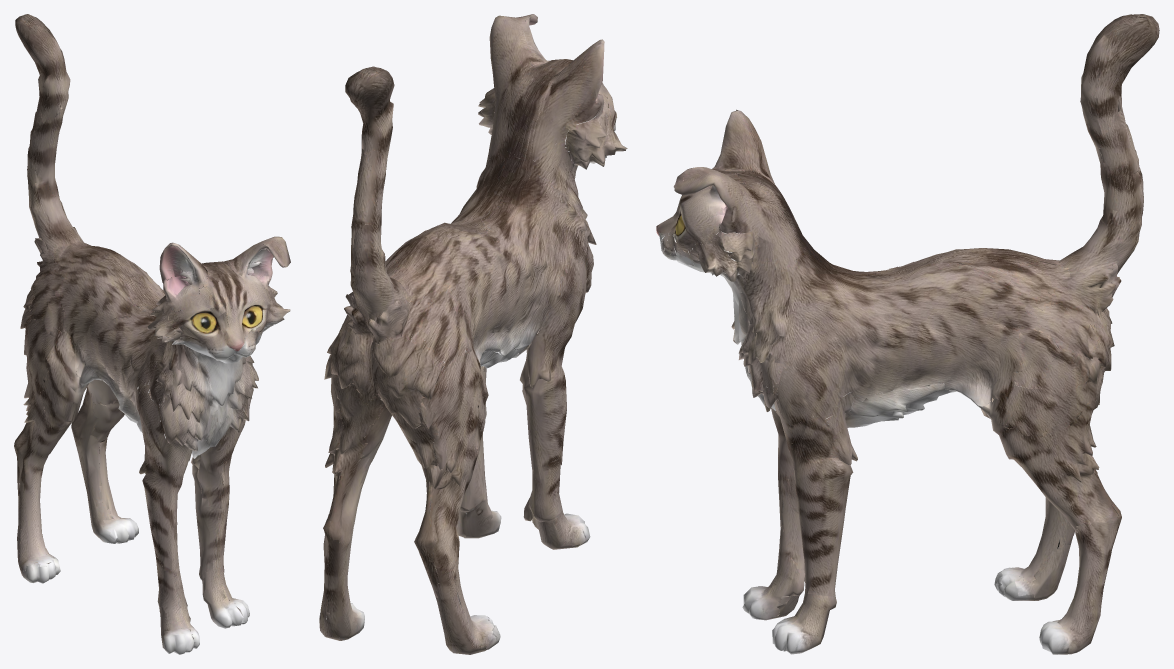
The model's file is cat.glb.
3 views of the same model, side by side, from view 1: azimuth 30°, elevation 25°; view 2: azimuth 150°, elevation 25°; view 3: azimuth 270°, elevation 25° (orthographic). The views are drawn at different scales.
Parts seen in each view (by area): view 1: V17_CAT__CAT_FINAL; view 2: V17_CAT__CAT_FINAL; view 3: V17_CAT__CAT_FINAL.
Boxes of the visible parts, x1,y1,x2,y2 form: V17_CAT__CAT_FINAL: (14, 14, 290, 654); V17_CAT__CAT_FINAL: (319, 14, 627, 654); V17_CAT__CAT_FINAL: (656, 14, 1159, 654).
Bounding box in the file's own units: 0.1939 × 0.7004 × 0.5289.
1 material, 1 textured.
